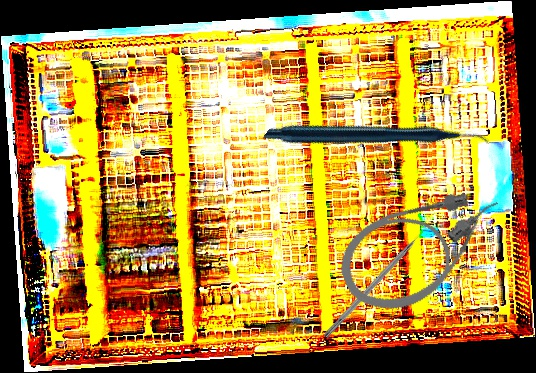Cannula: (327, 173, 522, 326)
Handpiece: (262, 30, 490, 249)
Hook Surgical: (322, 220, 435, 340)
